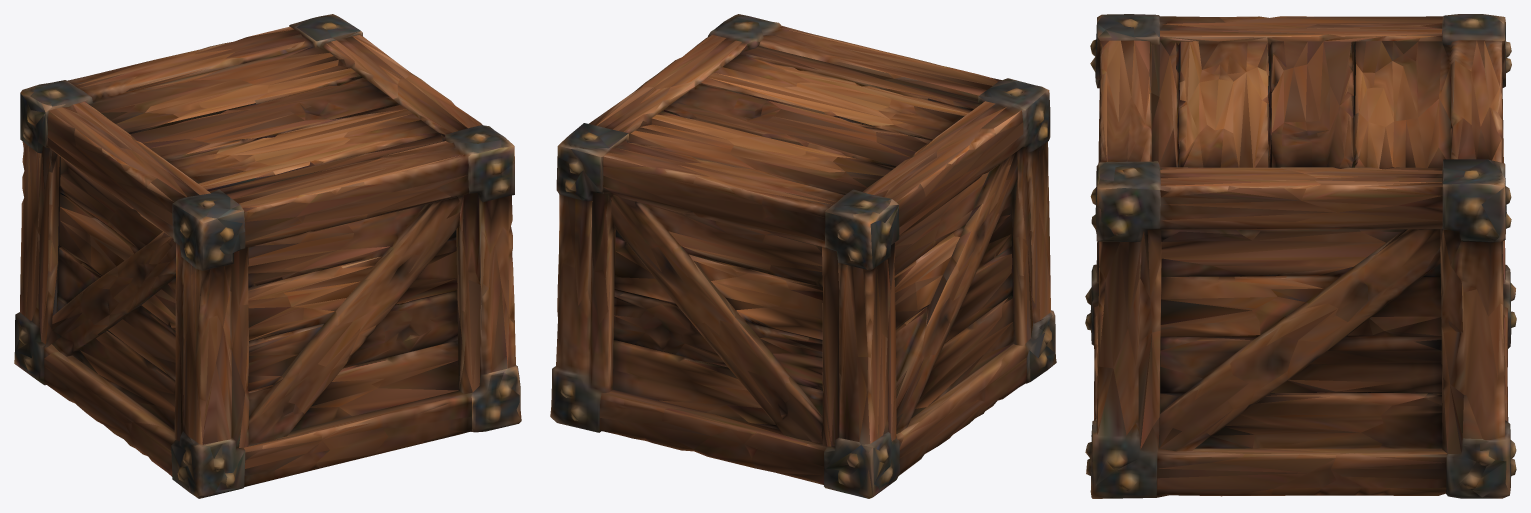
The model's file is crate-01.glb.
3 views of the same model, side by side, from view 1: azimuth 30°, elevation 25°; view 2: azimuth 150°, elevation 25°; view 3: azimuth 270°, elevation 25° (orthographic). The views are drawn at different scales.
Visible parts, largest first — view 1: nebeljagd-tripo-crate-01; view 2: nebeljagd-tripo-crate-01; view 3: nebeljagd-tripo-crate-01.
Boxes of the visible parts, x1,y1,x2,y2 form: nebeljagd-tripo-crate-01: (14, 14, 521, 498); nebeljagd-tripo-crate-01: (550, 14, 1056, 498); nebeljagd-tripo-crate-01: (1085, 14, 1516, 498).
Size of the model in its own units: 1.15 by 0.9515 by 1.15.
1 material, 1 textured.
